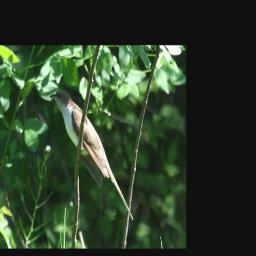Cuckoo: (50, 89, 135, 222)
